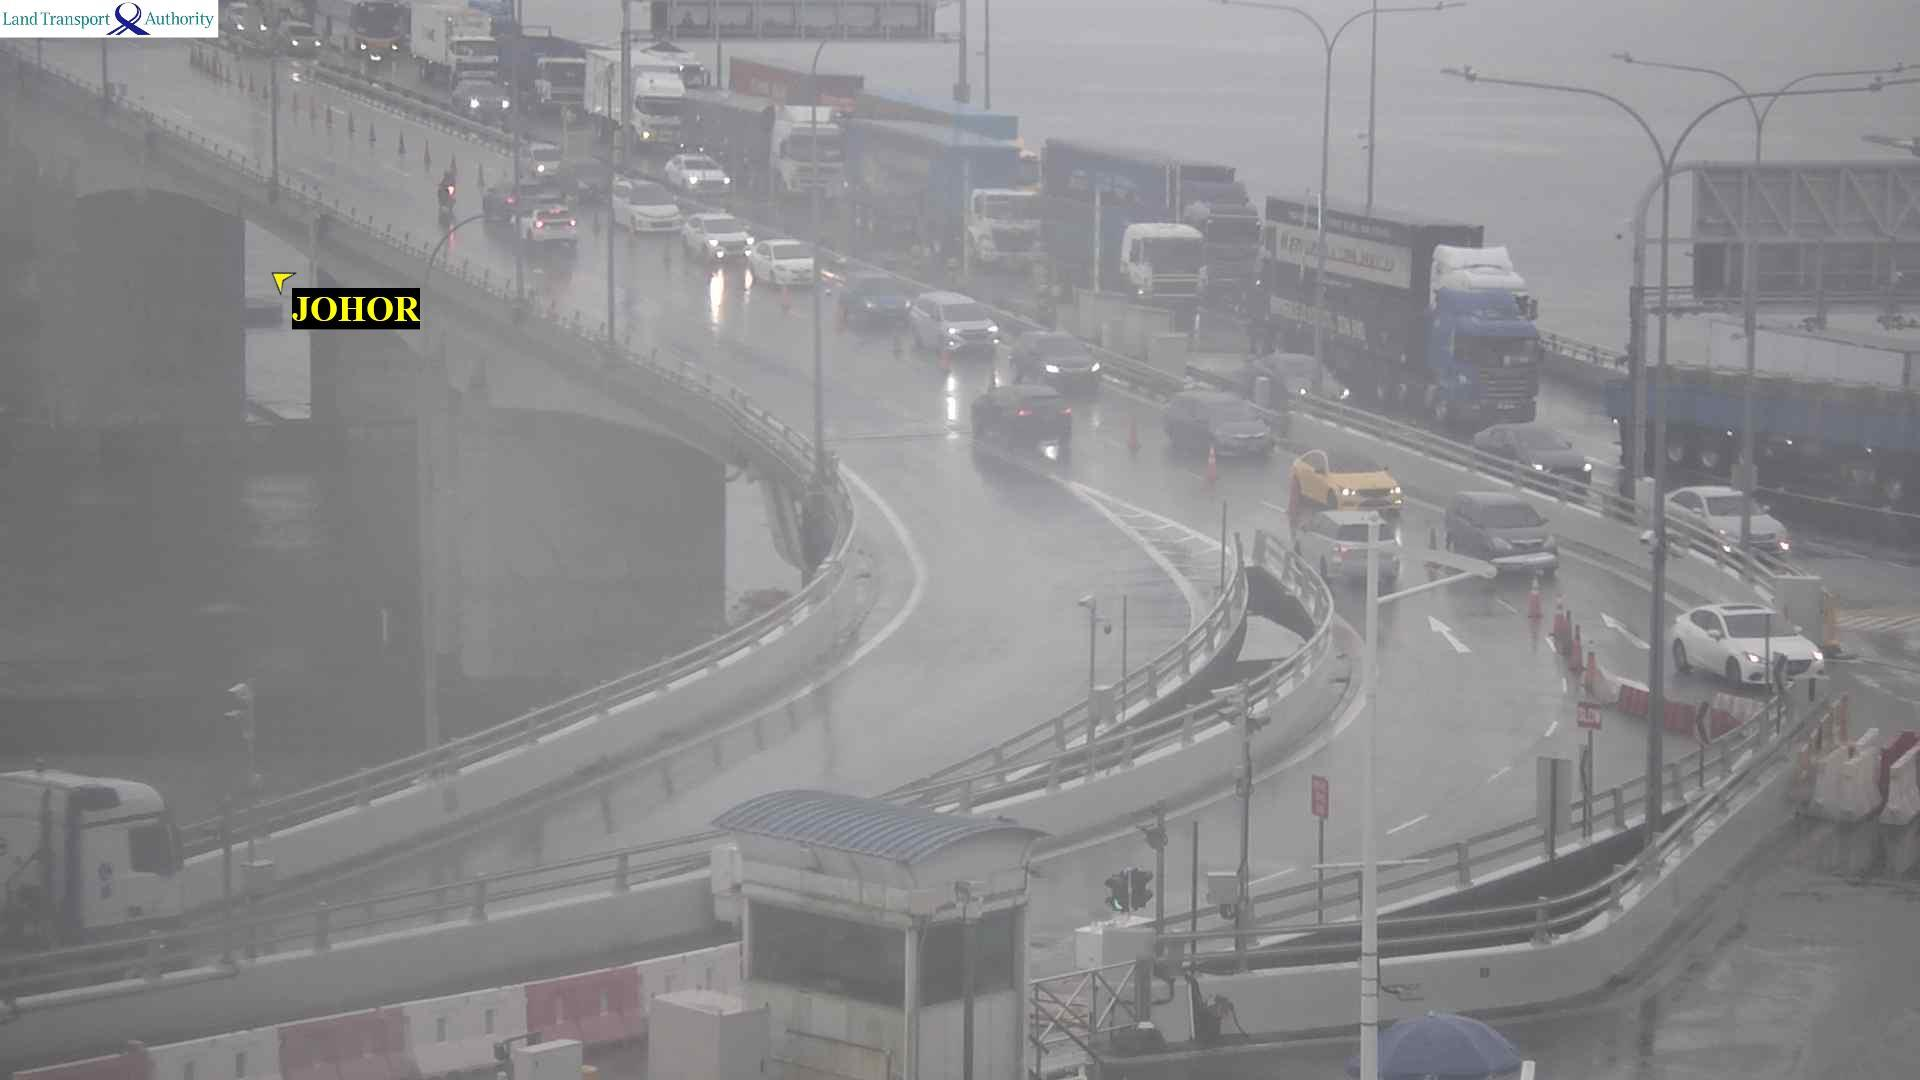vehicle-secondlink-johor: (1304, 518, 1404, 587), (972, 384, 1069, 446), (510, 202, 580, 253), (484, 181, 560, 210), (435, 166, 455, 212)
vehicle-secondlink-singapore: (1605, 369, 1917, 481), (1265, 287, 1542, 394), (858, 124, 1042, 269), (1273, 206, 1548, 302), (1052, 133, 1262, 224), (1676, 601, 1825, 688), (691, 91, 852, 171), (1435, 497, 1556, 576), (733, 59, 872, 120), (583, 50, 680, 136), (1667, 487, 1784, 556), (1474, 425, 1588, 493), (1295, 454, 1412, 518), (1164, 398, 1271, 462), (414, 9, 492, 79), (914, 295, 1007, 353), (1018, 332, 1101, 392), (318, 0, 406, 55), (506, 42, 579, 107), (839, 280, 927, 327), (1255, 356, 1341, 405), (748, 239, 832, 286), (683, 215, 758, 261), (620, 178, 674, 232), (463, 87, 502, 131), (281, 21, 316, 61)
